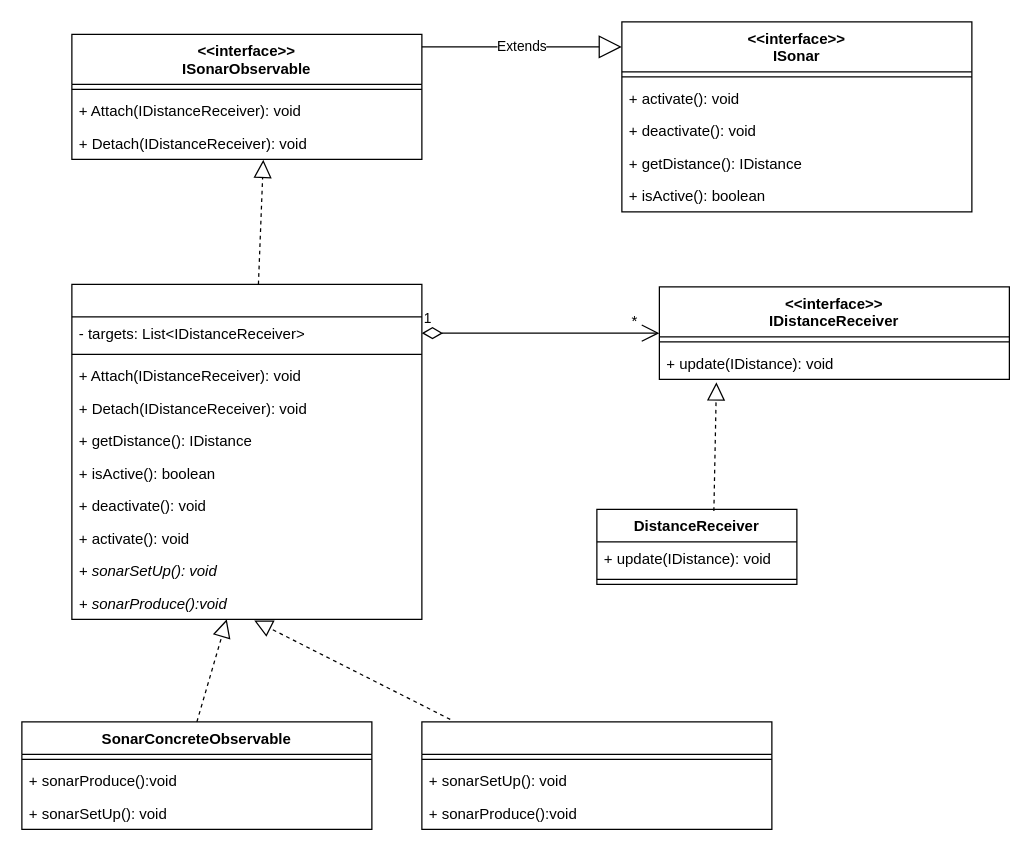
This 1031x855 diagram has some shape labels left out. Each missing label, with the box of its shape:
SonarMockObservable: (421, 721, 772, 829)
SonarModelObservable: (71, 283, 422, 619)
